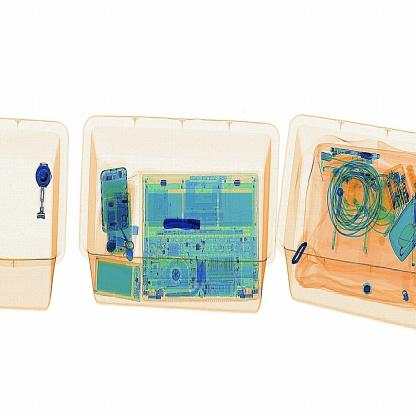knife: (161, 209, 204, 234)
